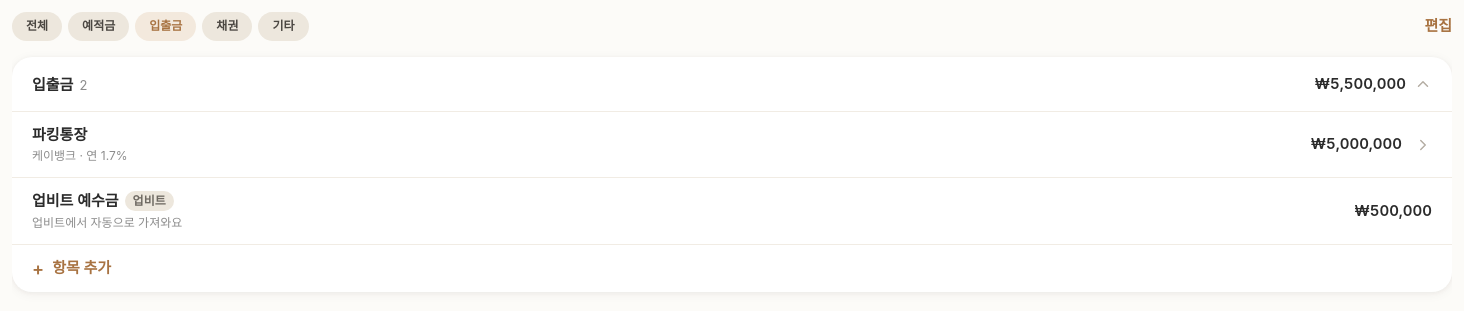
SavingsManageList › 편집 모드에서 AUTO 행은 인라인 입력·삭제 버튼이 없다
Click the button "편집" at (1438, 26), box 1424,15 -> 1452,38
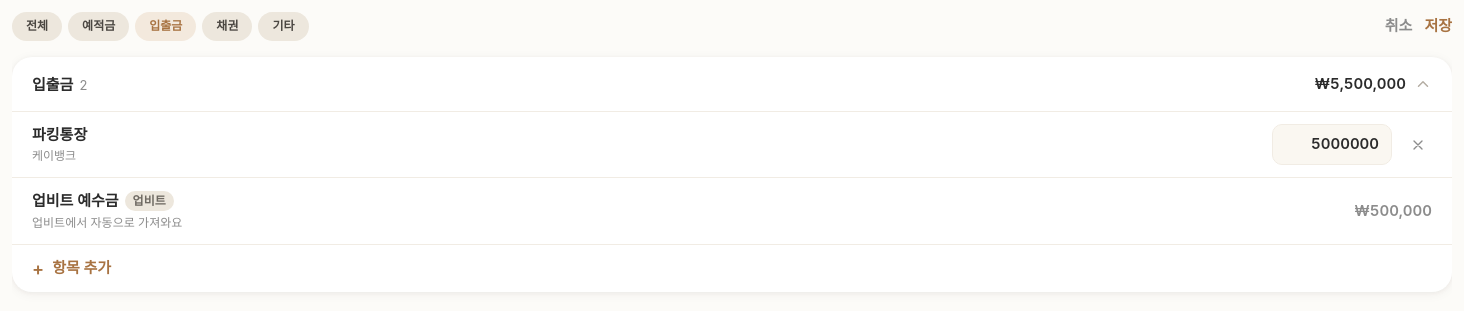
Result: the field named "파킹통장 금액" is shown at 1272,124 -> 1392,165
